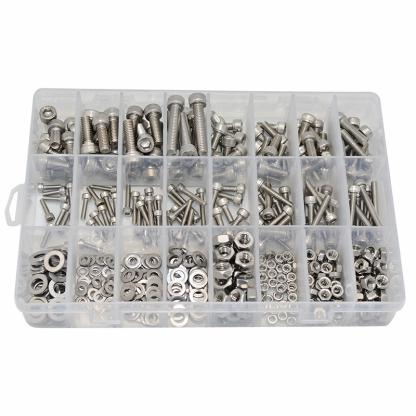FOD: (166, 93, 186, 154), (255, 176, 293, 207), (187, 93, 206, 153), (120, 119, 144, 164), (141, 103, 163, 147), (77, 113, 99, 155), (175, 183, 208, 207), (102, 106, 120, 145), (260, 132, 283, 161), (47, 117, 66, 151), (210, 122, 228, 152), (347, 184, 360, 224), (299, 130, 318, 156), (303, 194, 318, 225), (230, 206, 250, 228), (38, 197, 54, 223), (130, 190, 140, 223), (80, 193, 92, 220)
